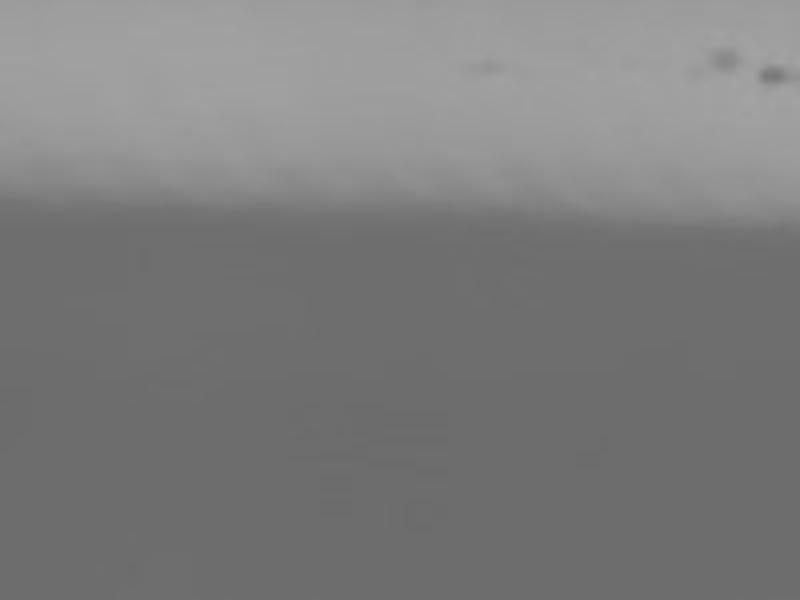defect: (754, 57, 793, 85), (705, 48, 740, 76), (675, 67, 705, 89), (473, 58, 499, 78)
